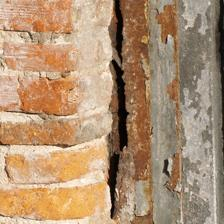Crack: (109, 59, 136, 147), (109, 1, 129, 66), (106, 152, 124, 217)
